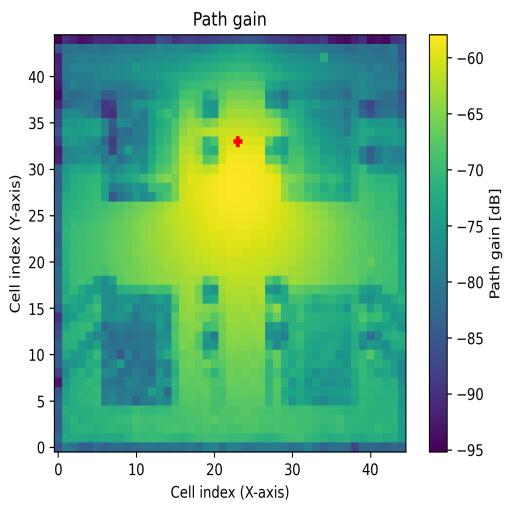Concrete: (280, 83, 358, 200)
Glass: (102, 81, 179, 204)
Metal: (288, 296, 359, 407)
Wood: (101, 293, 172, 407)
